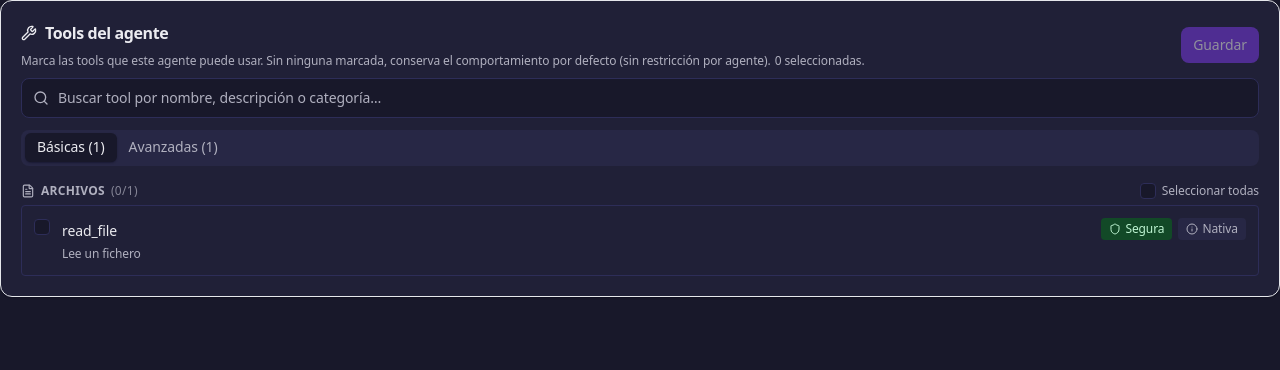
Scenario: AgentToolsSection — MCP no asignable por-agente (ADR 0128) › excludes MCP tools from the assignable Advanced list and counts
The width and height of the screenshot is (1280, 370).
Note: Abre la pestaña Avanzadas.
Step 1. Click the tab with test id "agent-tools-tab-advanced" → x=173, y=148, box [117,133,230,162]
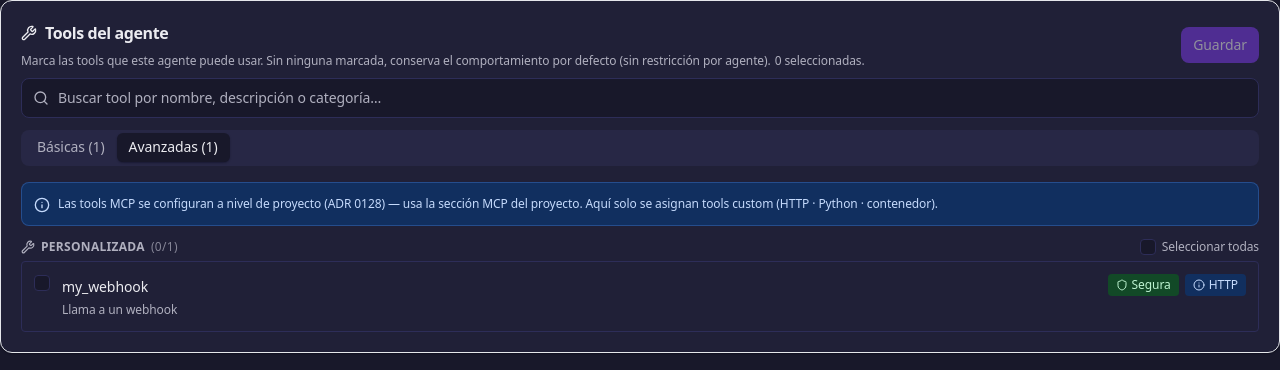
Expected: the element with test id "agent-tools-mcp-project-note" is shown, [21,182,1259,226]
Expected: the list item with test id "agent-tool-row-c1" is shown, [21,261,1259,332]
